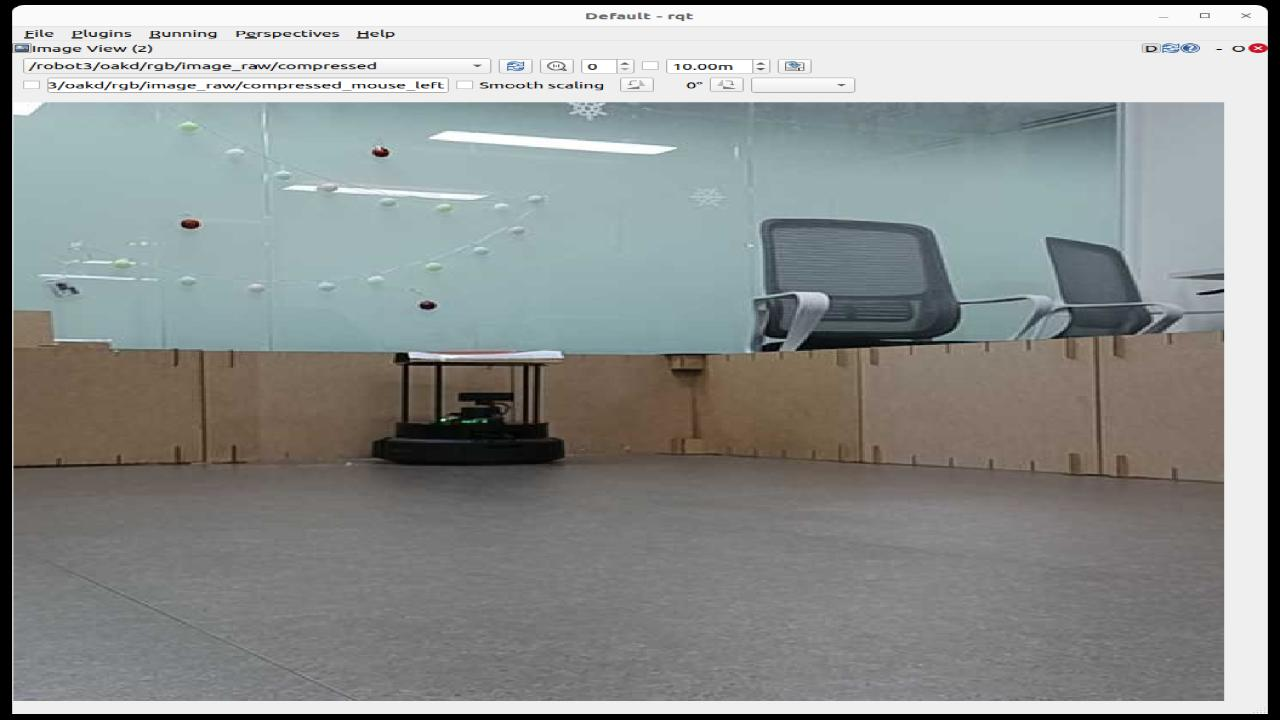AED: (410, 350, 563, 360)
Robot: (372, 360, 564, 464)
